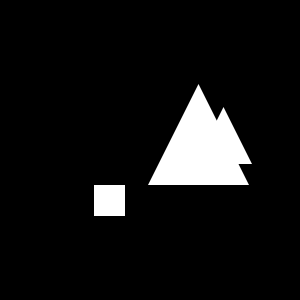circle: (94, 185, 125, 216)
triangle: (148, 84, 249, 185), (195, 107, 252, 164), (170, 147, 199, 176)
